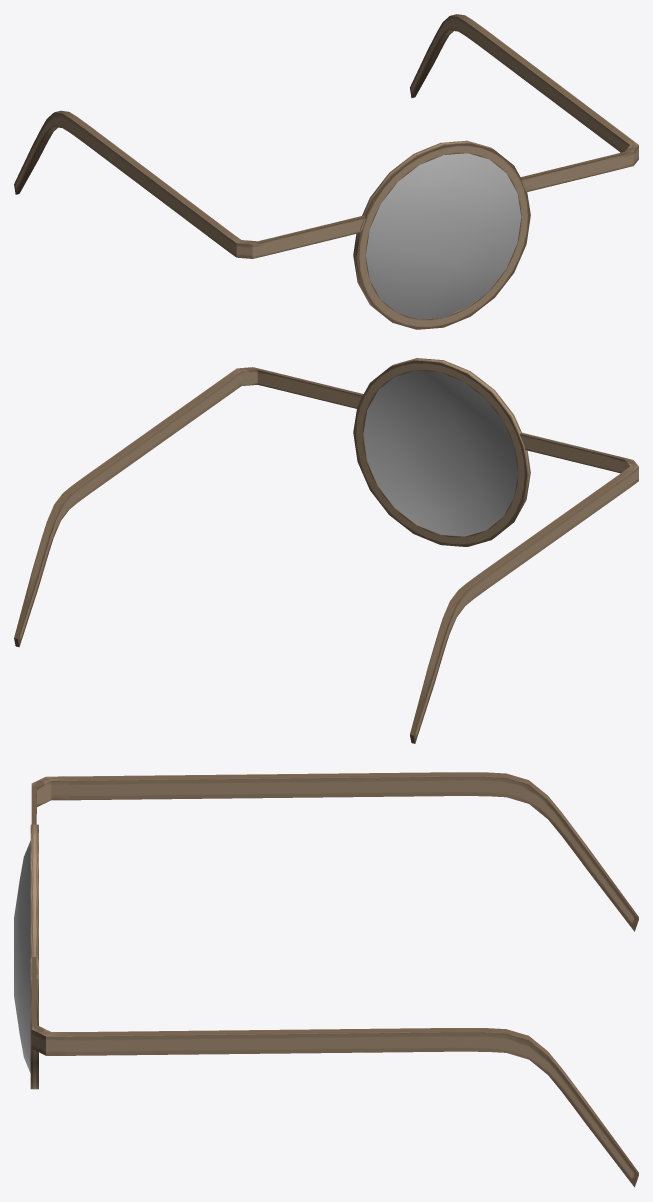
Rendered from library_loom_glass.fbx.
3 views of the same model, one above another, from view 1: azimuth 30°, elevation 25°; view 2: azimuth 150°, elevation 25°; view 3: azimuth 270°, elevation 25° (orthographic). The views are drawn at different scales.
Visible parts, largest first — view 1: glass.001_lo; view 2: glass.001_lo; view 3: glass.001_lo.
Boxes of the visible parts, <box> form: glass.001_lo: <box>14,14,638,329</box>; glass.001_lo: <box>14,358,638,743</box>; glass.001_lo: <box>14,772,638,1187</box>.
Bounding box in the file's own units: 17.09 × 7.4 × 17.36.
